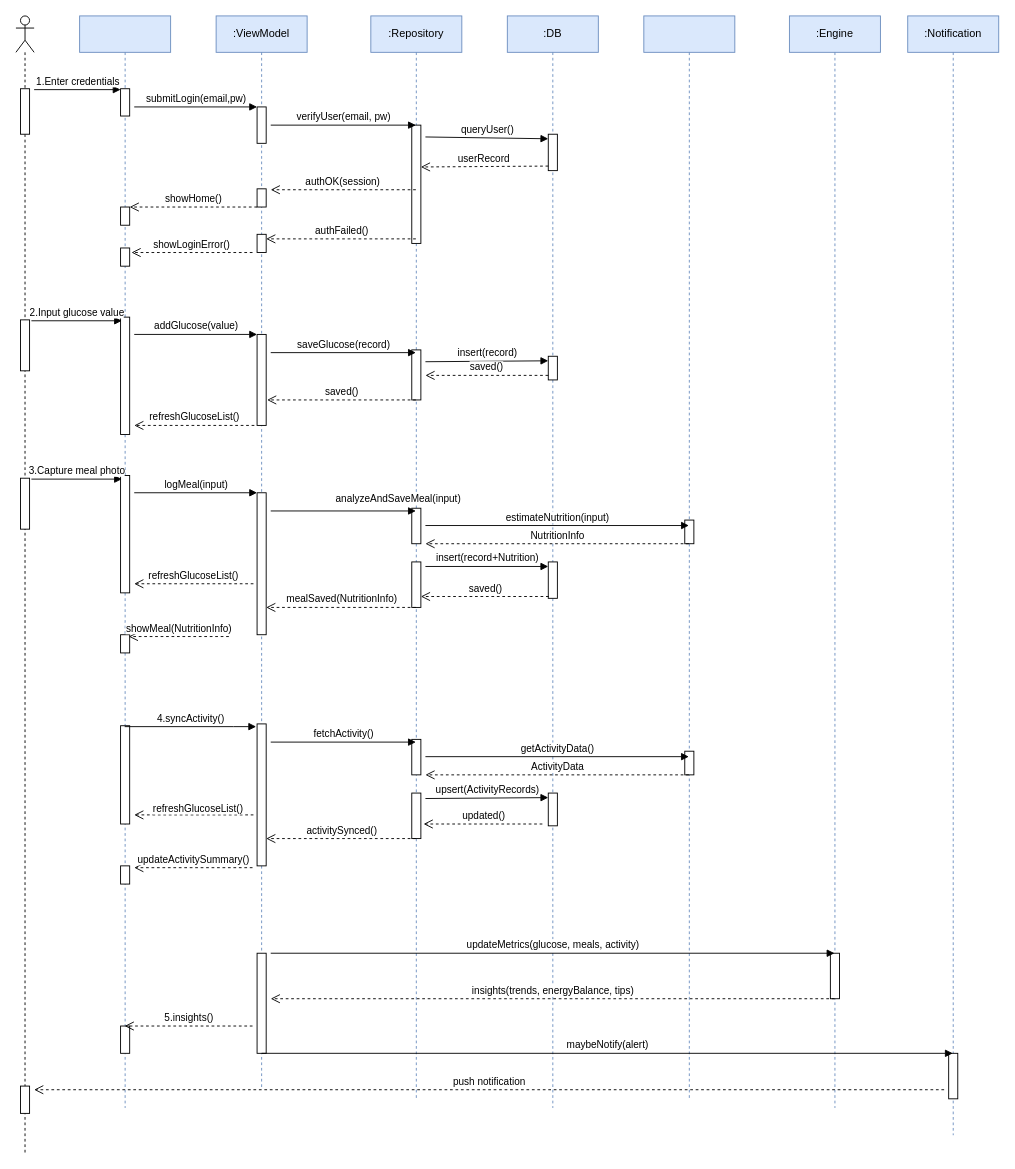
This 1015x1169 diagram has some shape labels left out. Here are the shapes that lost their labels. From the top down, the box of each, then its label:
(79, 15, 171, 1108): :Mobile App
(643, 15, 735, 1099): :External API
